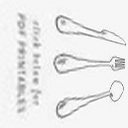fork: (48, 47, 128, 78)
